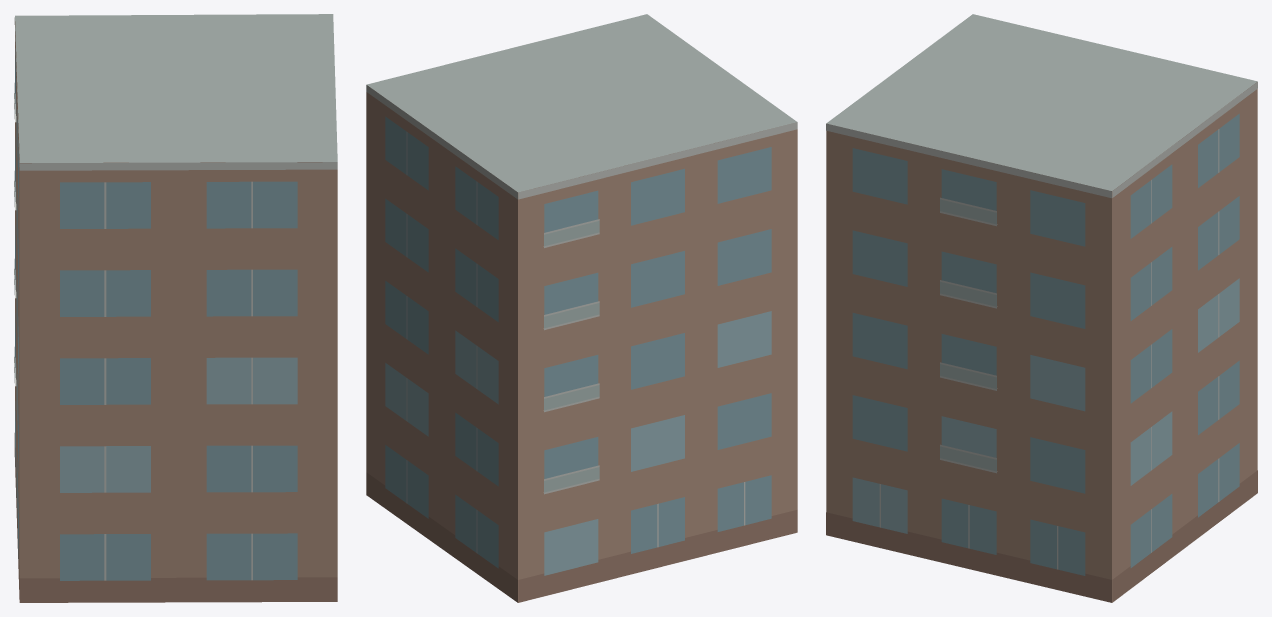
The model's file is survey-upis-33003127.glb.
3 renders of one model, left to right at view 1: azimuth 30°, elevation 25°; view 2: azimuth 150°, elevation 25°; view 3: azimuth 270°, elevation 25°, orthographic. The views are drawn at different scales.
Visible parts, largest first — view 1: survey-upis-33003127.tmp; view 2: survey-upis-33003127.tmp; view 3: survey-upis-33003127.tmp.
Boxes of the visible parts, x1,y1,x2,y2 form: survey-upis-33003127.tmp: (14, 14, 337, 602); survey-upis-33003127.tmp: (366, 14, 797, 602); survey-upis-33003127.tmp: (826, 14, 1257, 602).
Bounding box in the file's own units: 12.93 × 14 × 13.31.
